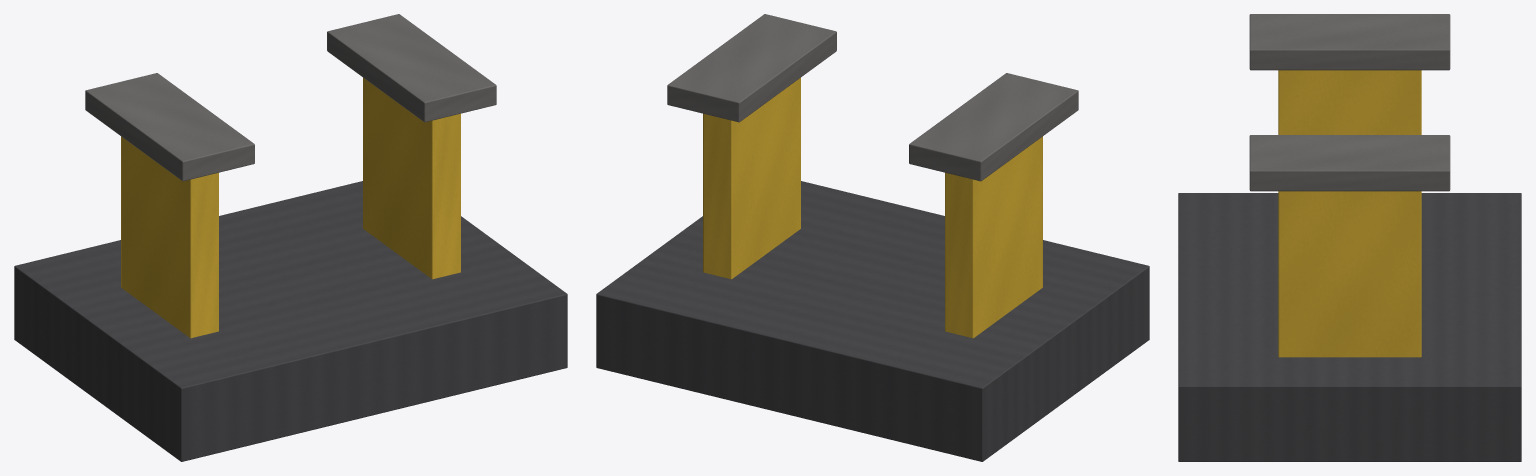
Rendered from rocket_test_fixture.glb.
3 renders of one model, left to right at view 1: azimuth 30°, elevation 25°; view 2: azimuth 150°, elevation 25°; view 3: azimuth 270°, elevation 25°, orthographic. The views are drawn at different scales.
Visible parts, largest first — view 1: base.008, support.001, support, saddle, saddle.001; view 2: base.008, support.001, support, saddle, saddle.001; view 3: base.008, support.001, saddle, saddle.001, support.
Boxes of the visible parts, x1,y1,x2,y2 form: base.008: [14, 181, 567, 461]; support.001: [363, 77, 460, 279]; support: [121, 136, 218, 338]; saddle: [85, 73, 254, 181]; saddle.001: [327, 14, 496, 122]; base.008: [596, 181, 1149, 461]; support.001: [703, 77, 800, 279]; support: [945, 136, 1042, 338]; saddle: [909, 73, 1078, 181]; saddle.001: [667, 14, 836, 122]; base.008: [1178, 193, 1521, 461]; support.001: [1278, 191, 1421, 357]; saddle: [1249, 14, 1450, 70]; saddle.001: [1249, 135, 1450, 191]; support: [1278, 70, 1421, 134].
Size of the model in its own units: 2.4 by 1.58 by 1.8.
Materials: 3 (3 with a texture image).
